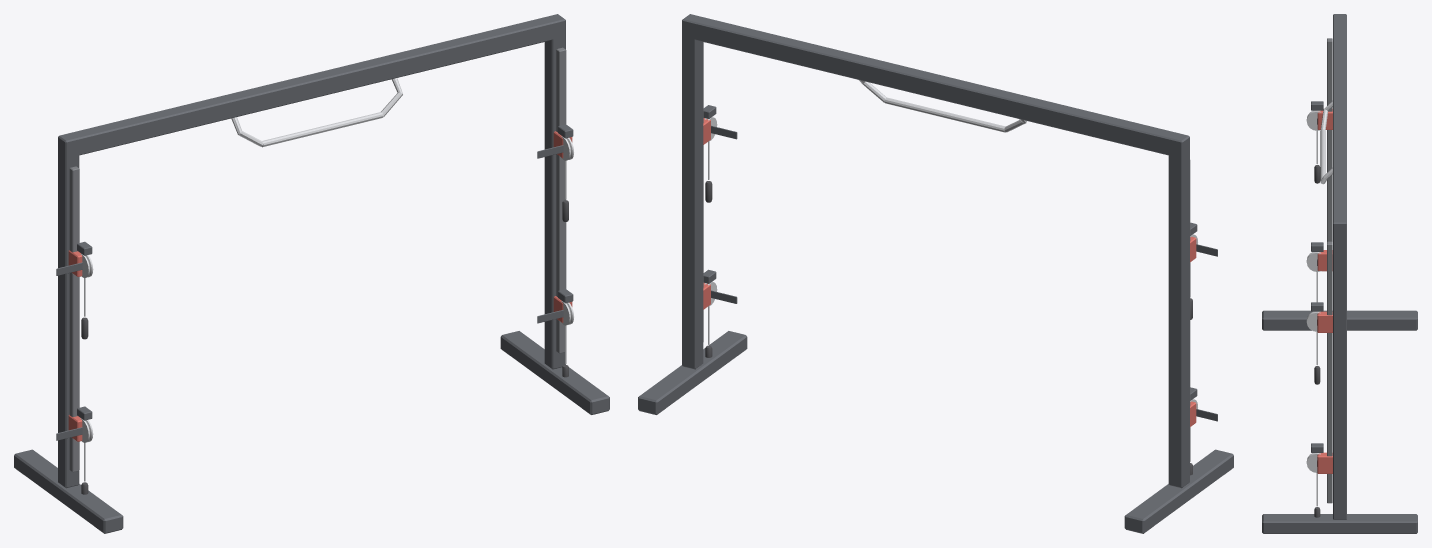
File: cable.glb
The picture shows the model from 3 angles, left to right: view 1: azimuth 30°, elevation 25°; view 2: azimuth 150°, elevation 25°; view 3: azimuth 270°, elevation 25°; orthographic projection. The views are drawn at different scales.
Parts seen in each view (by area): view 1: cable-crossover-frame; view 2: cable-crossover-frame; view 3: cable-crossover-frame.
Part boxes in pixels (<box>): cable-crossover-frame: <box>14,14,609,533</box>; cable-crossover-frame: <box>638,14,1233,533</box>; cable-crossover-frame: <box>1262,14,1417,533</box>.
Bounding box in the file's own units: 3.65 × 2.42 × 1.1.
